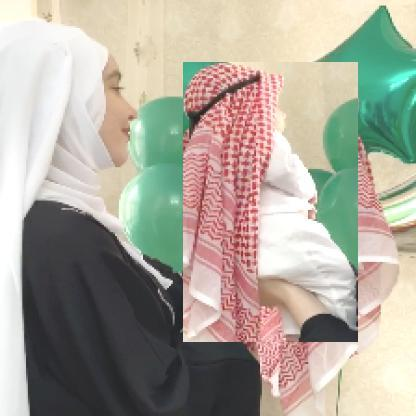child: (184, 63, 360, 344)
